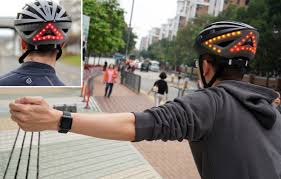helmet: (193, 15, 275, 91), (17, 3, 79, 62)
